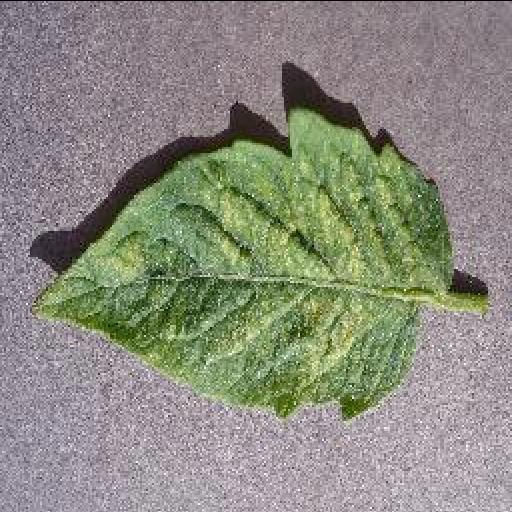disease_tomato: (28, 102, 446, 416)
